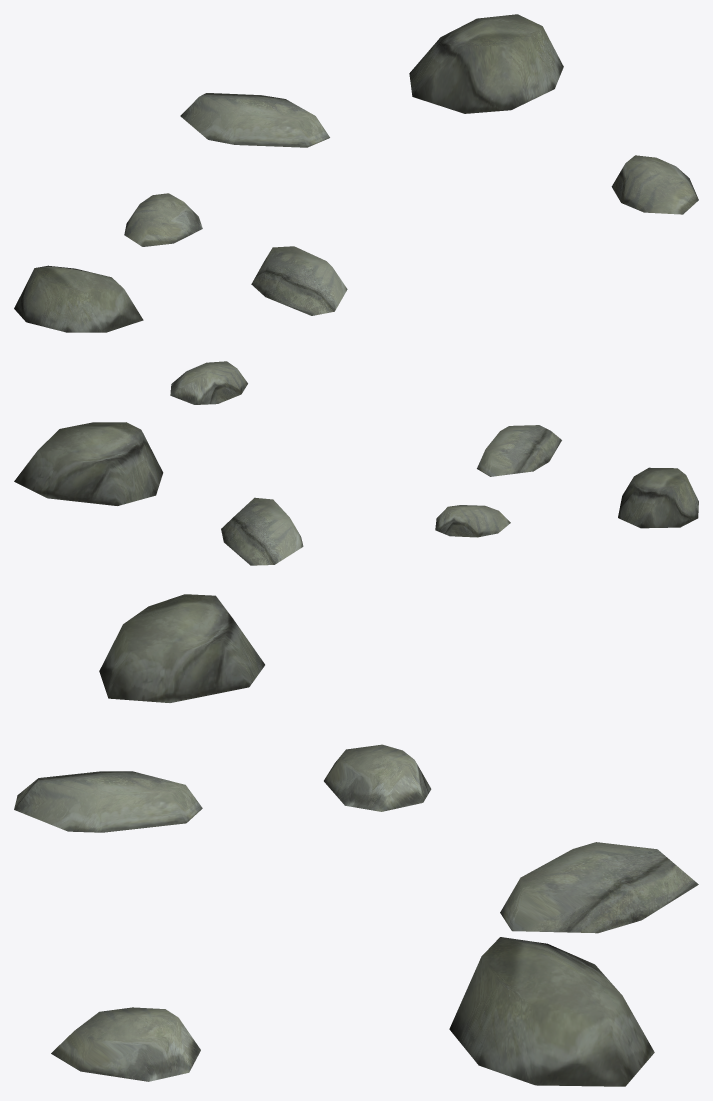
The model's file is pebbles.FBX.
3 views of the same model, one above another, from view 1: azimuth 30°, elevation 25°; view 2: azimuth 150°, elevation 25°; view 3: azimuth 270°, elevation 25° (orthographic). The views are drawn at different scales.
Parts seen in each view (by area): view 1: pebbles; view 2: pebbles; view 3: pebbles.
Boxes of the visible parts, x1,y1,x2,y2 form: pebbles: [14, 14, 698, 332]; pebbles: [14, 361, 698, 565]; pebbles: [14, 594, 698, 1086].
Size of the model in its own units: 1.85 by 0.173 by 1.2.
